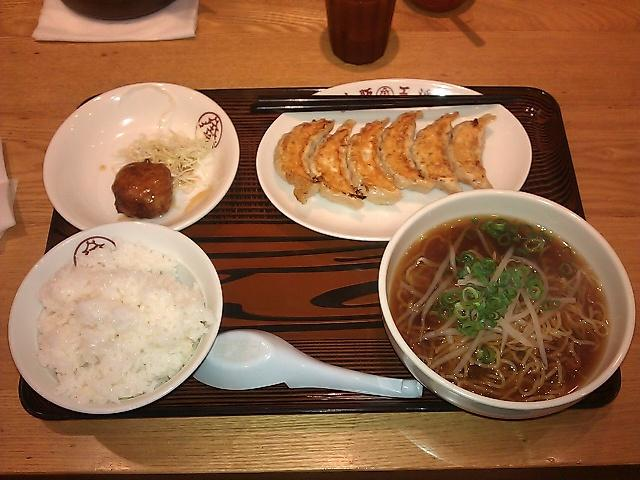rice: (36, 243, 211, 404)
